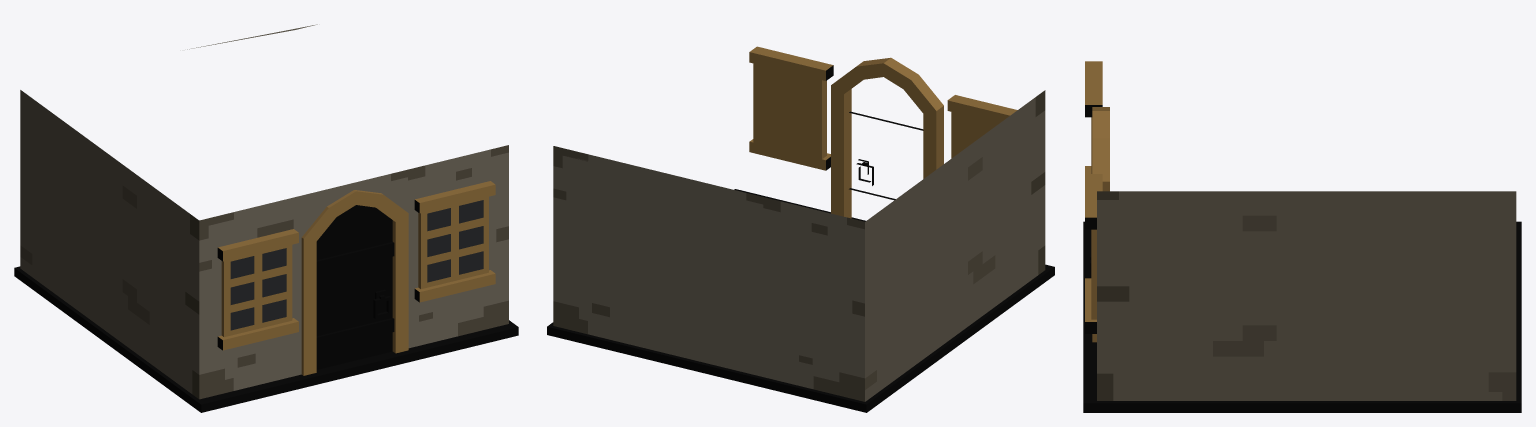
File: HouseAdd_Base.gltf
The picture shows the model from 3 angles, left to right: view 1: azimuth 30°, elevation 25°; view 2: azimuth 150°, elevation 25°; view 3: azimuth 270°, elevation 25°; orthographic projection. The views are drawn at different scales.
Visible parts, largest first — view 1: SF_Bld_HouseAdd_Base_01; view 2: SF_Bld_HouseAdd_Base_01; view 3: SF_Bld_HouseAdd_Base_01.
Part boxes in pixels (x1=…): SF_Bld_HouseAdd_Base_01: x1=14, y1=24, x2=518, y2=412; SF_Bld_HouseAdd_Base_01: x1=547, y1=46, x2=1054, y2=412; SF_Bld_HouseAdd_Base_01: x1=1083, y1=61, x2=1521, y2=412.
Bounding box in the file's own units: 0.0802 × 0.0452 × 0.0818.
1 material, 1 textured.
